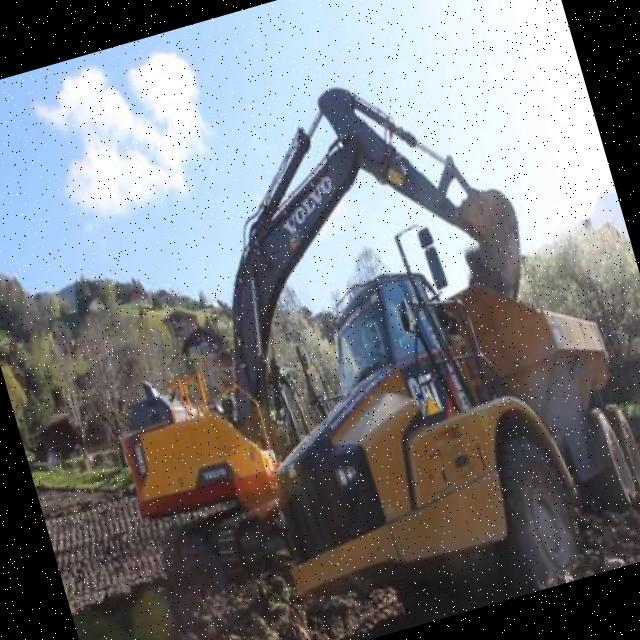Dump Truck: (205, 176, 640, 640)
Excavator: (40, 45, 591, 600)
